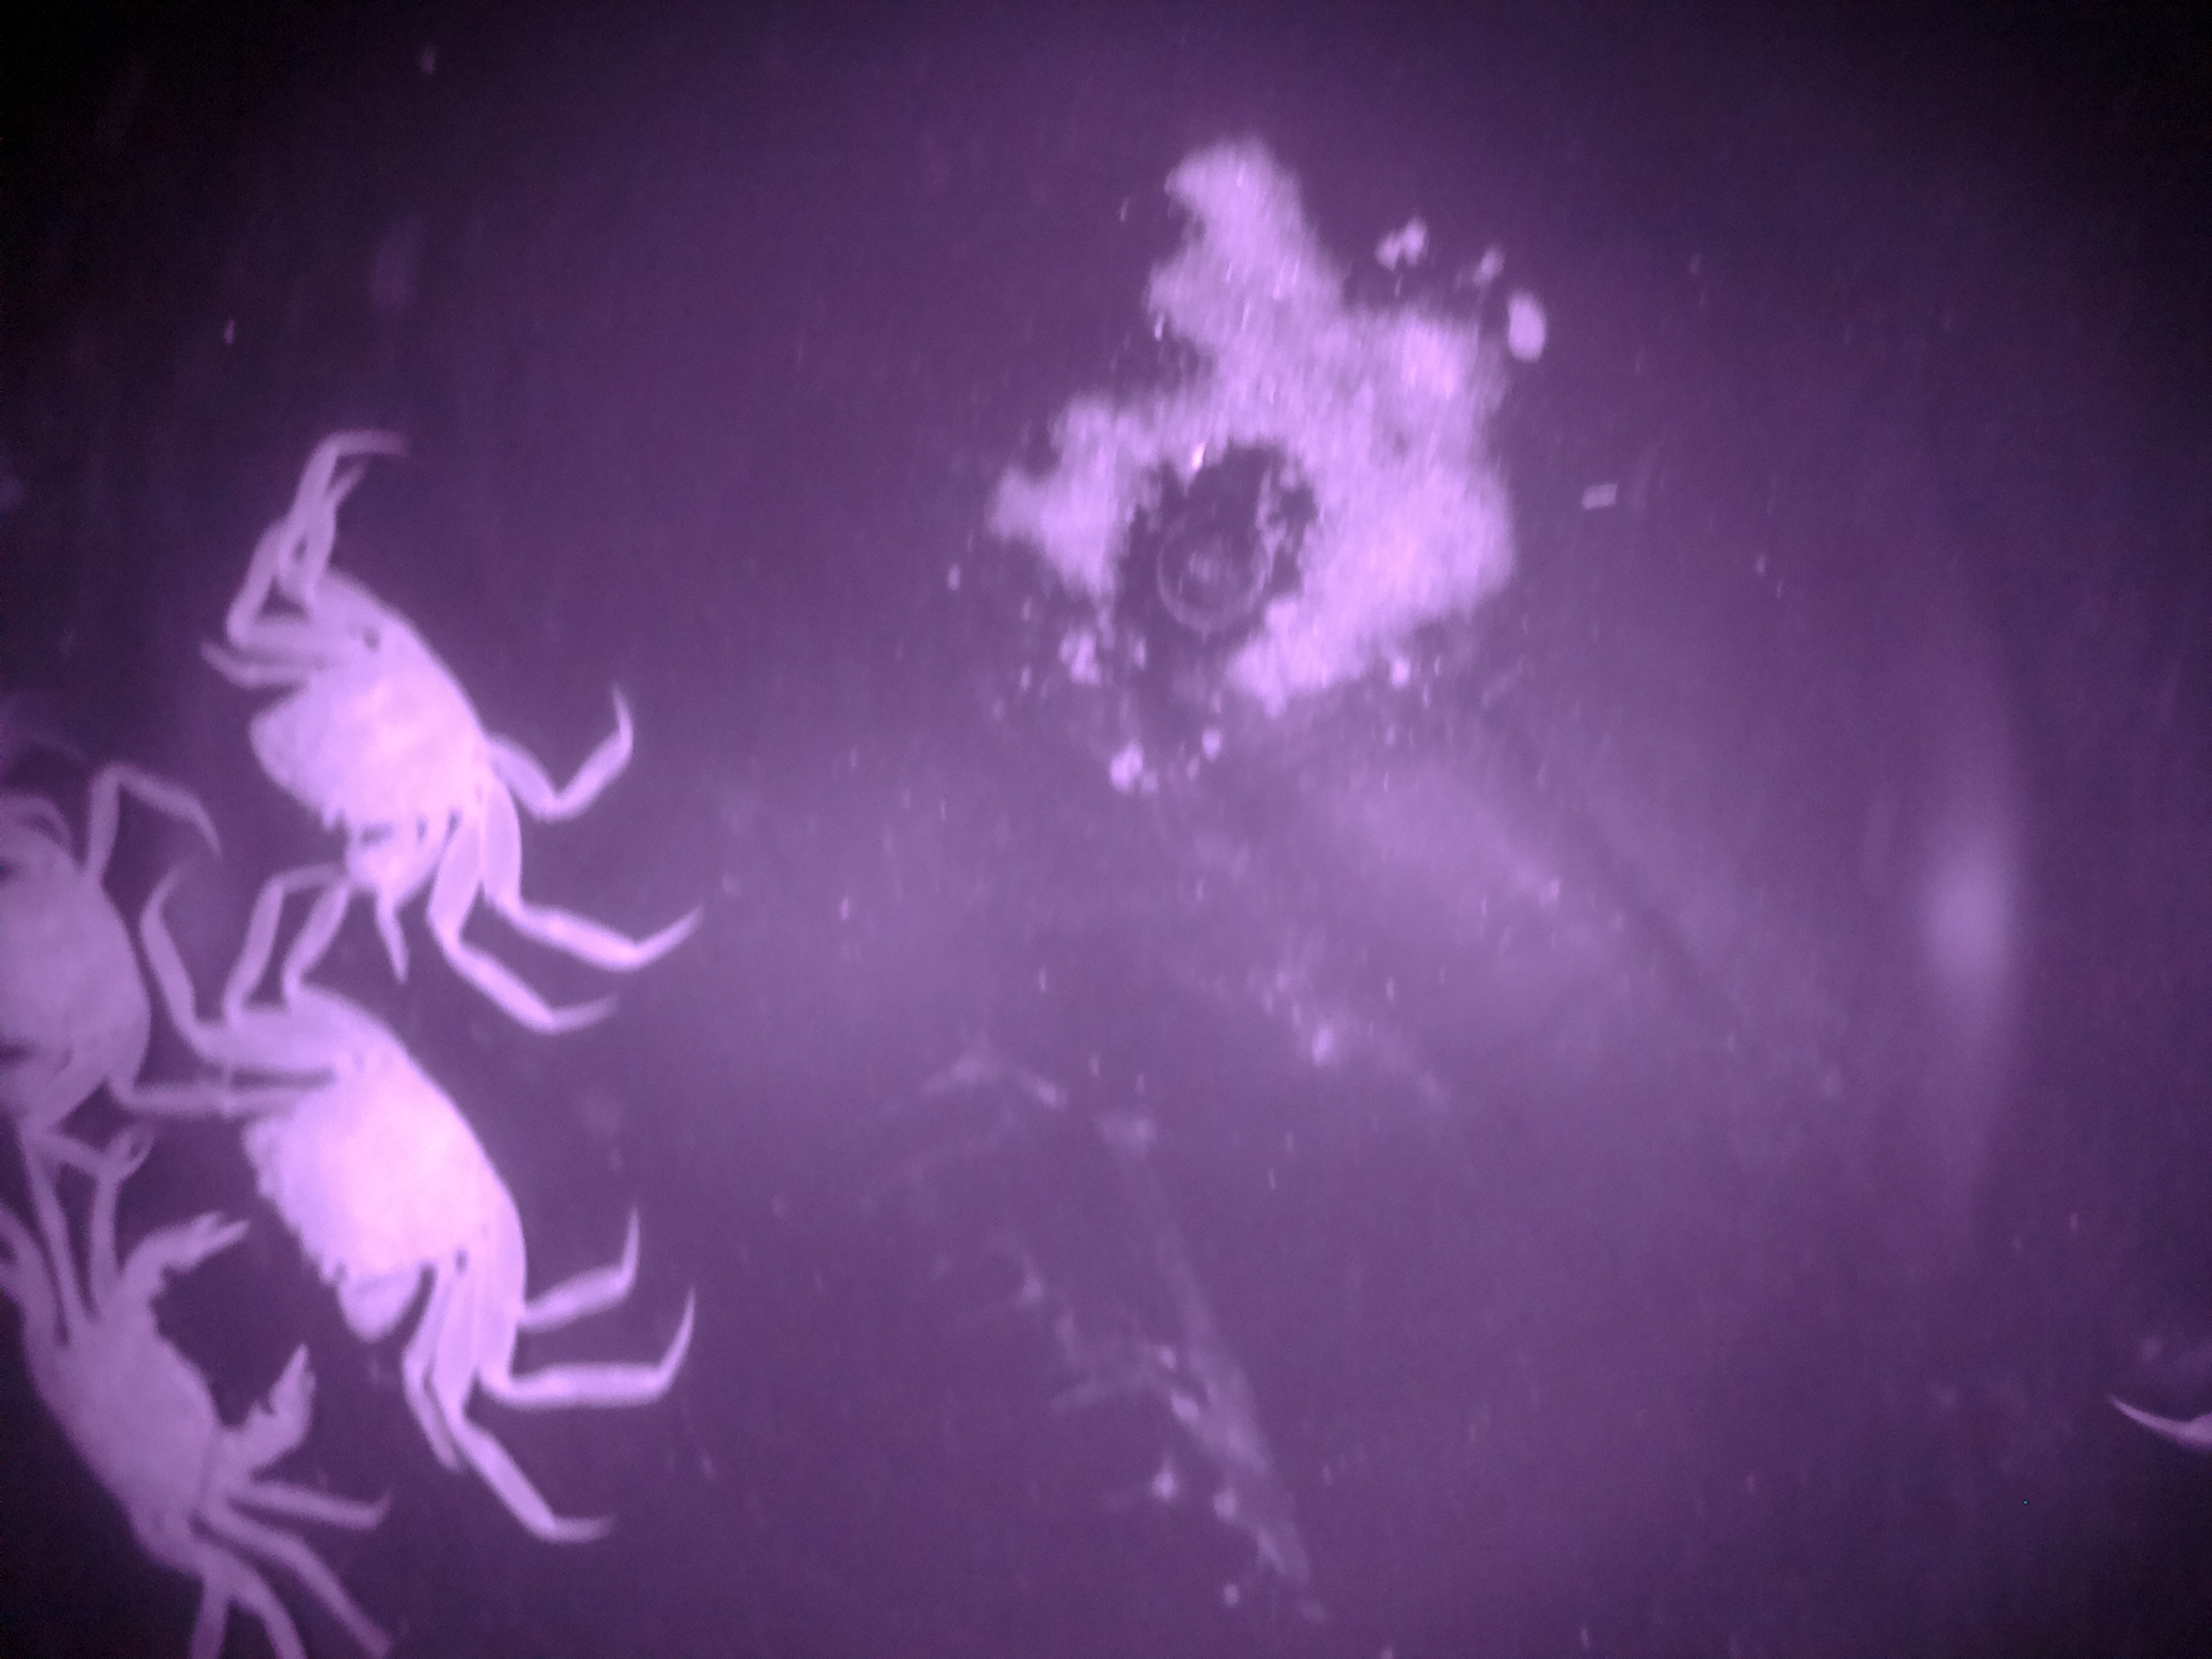Crab: (146, 875, 577, 1450), (172, 486, 660, 971)
